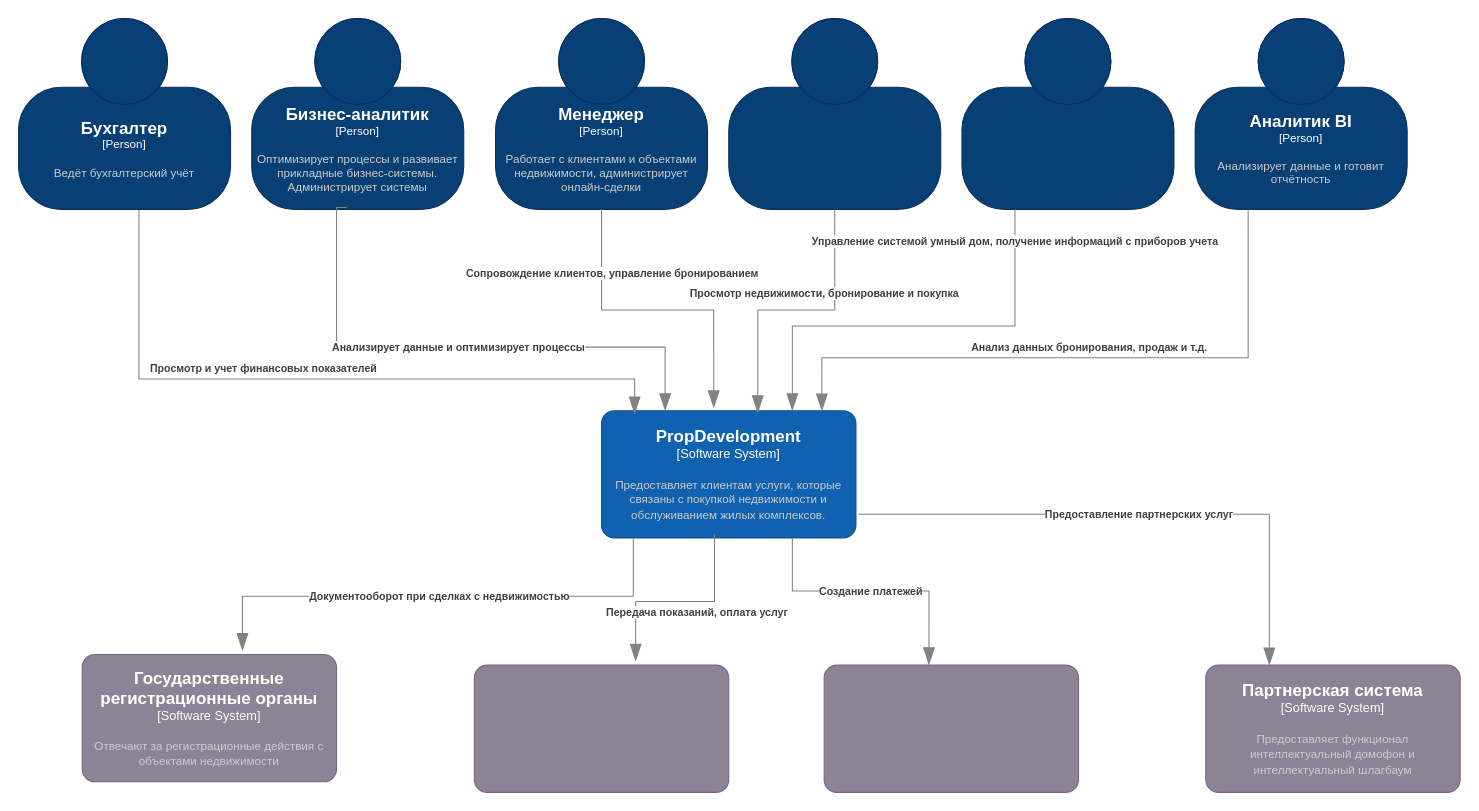
This 1479x811 diagram has some shape labels left out. The shapes that lost their labels are listed below. From the top down, each one's box as (x1, y1, x2, y2) in pixels, then its label:
(728, 17, 941, 209): Клиент [Person] Клиент
(961, 17, 1174, 209): Собственник [Person] Клиент
(473, 664, 729, 792): Поставщик ресурсов ЖКХ [Software System]
(823, 664, 1079, 792): Платёжная система [Software System] Провайдер онлайн-платежей
